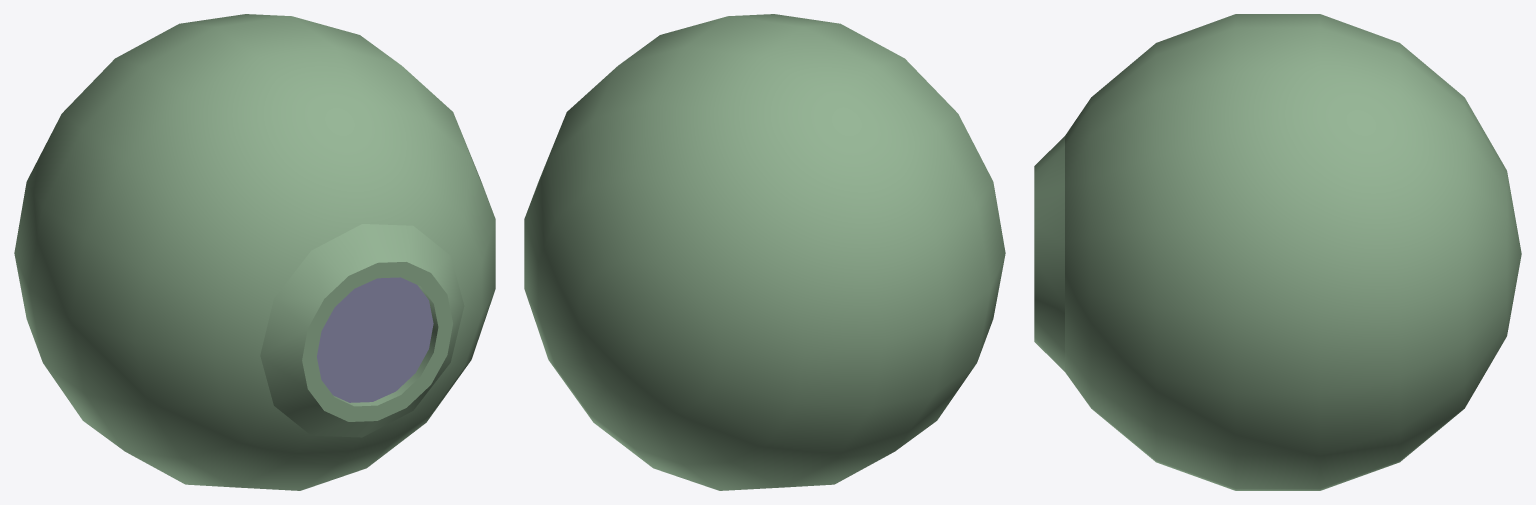
The model's file is amball.obj.
The picture shows the model from 3 angles, left to right: view 1: azimuth 30°, elevation 25°; view 2: azimuth 150°, elevation 25°; view 3: azimuth 270°, elevation 25°; orthographic projection.
Visible parts, largest first — view 1: amball\Solid; view 2: amball\Solid; view 3: amball\Solid.
Boxes of the visible parts, x1,y1,x2,y2 form: amball\Solid: (14,14,495,490); amball\Solid: (524,14,1005,490); amball\Solid: (1034,14,1521,490).
Bounding box in the file's own units: 0.9764 × 0.9806 × 1.
